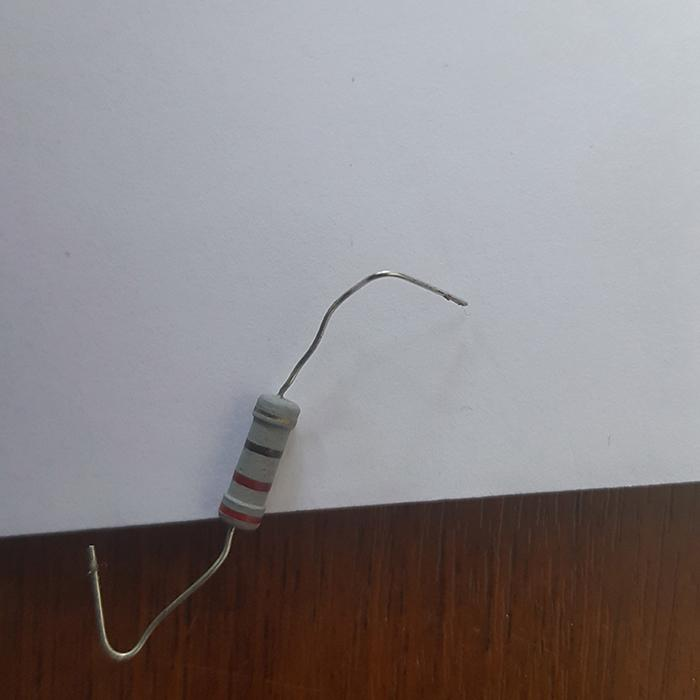resistor: (216, 392, 300, 533)
